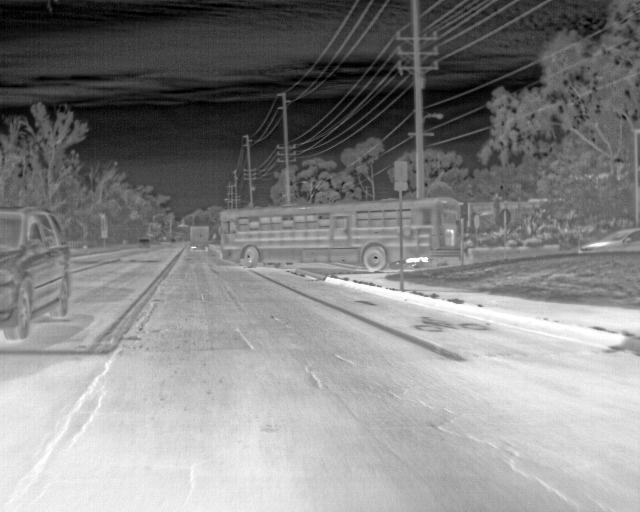car: (0, 203, 71, 342), (579, 225, 639, 254), (138, 238, 151, 250)
